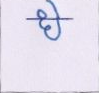e_matra: (37, 1, 64, 17)
